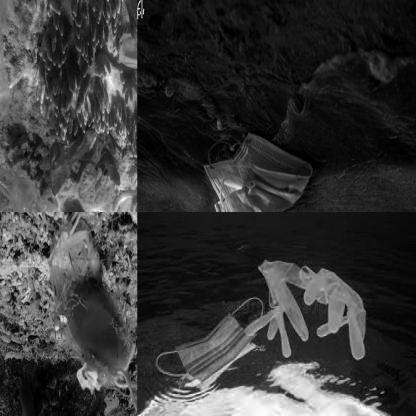Mask: (48, 212, 137, 415), (154, 294, 264, 392), (203, 131, 317, 211)
glove: (42, 103, 127, 211), (303, 258, 372, 360), (245, 259, 311, 359), (109, 15, 137, 136)
